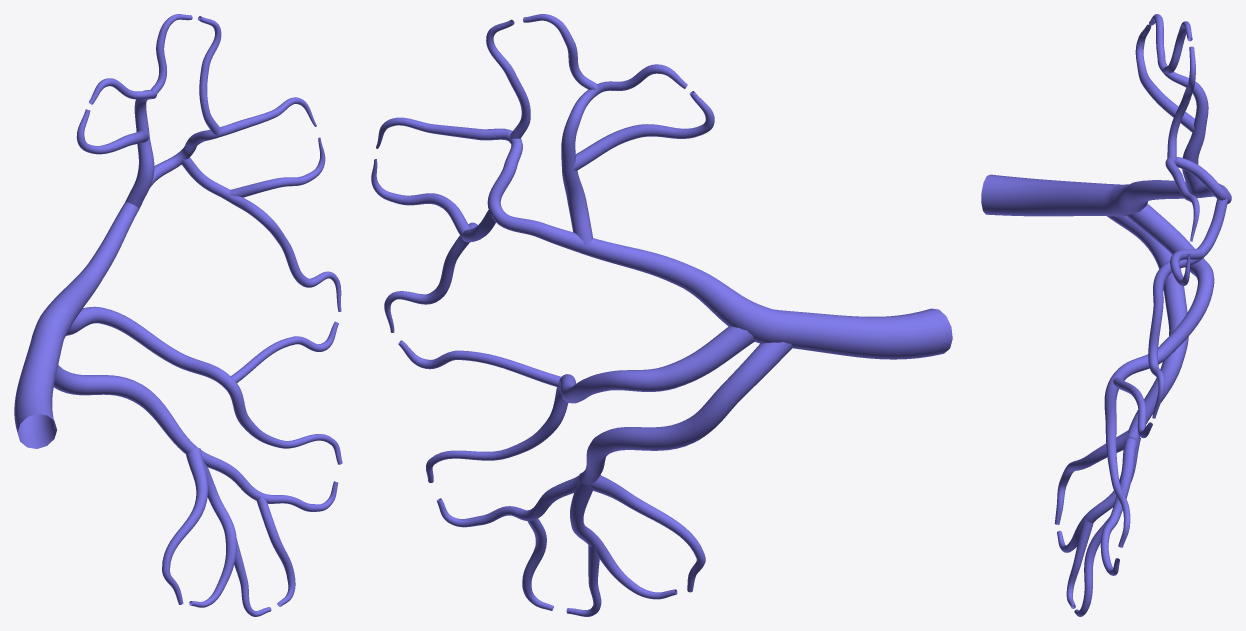
File: Intrarenal_veins_left_kidney.glb
3 renders of one model, left to right at view 1: azimuth 30°, elevation 25°; view 2: azimuth 150°, elevation 25°; view 3: azimuth 270°, elevation 25°, orthographic. The views are drawn at different scales.
Parts seen in each view (by area): view 1: Intrarenal_veins_of_left_kidney_BezierCurve.418; view 2: Intrarenal_veins_of_left_kidney_BezierCurve.418; view 3: Intrarenal_veins_of_left_kidney_BezierCurve.418.
Part boxes in pixels (box(x1,y1,x2,y2)): Intrarenal_veins_of_left_kidney_BezierCurve.418: box(14, 14, 342, 616); Intrarenal_veins_of_left_kidney_BezierCurve.418: box(371, 14, 952, 616); Intrarenal_veins_of_left_kidney_BezierCurve.418: box(981, 14, 1231, 616).
Size of the model in its own units: 0.058 by 0.0773 by 0.0309.
